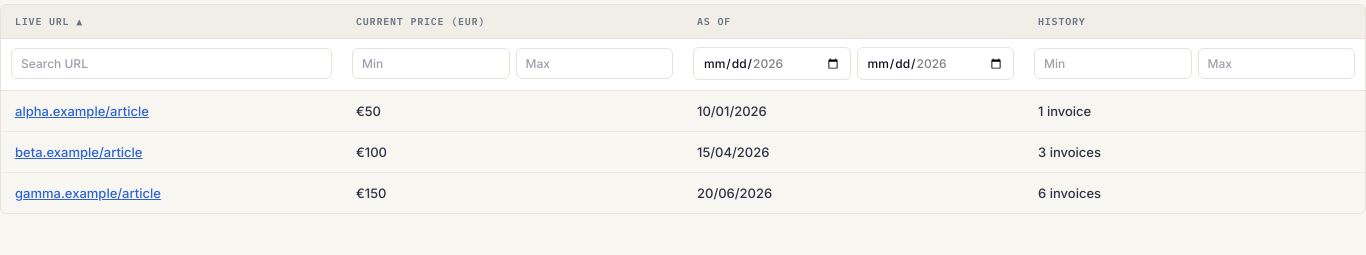
Scenario: WebsiteTable filters › combines filters and preserves a clear filtered-empty state
Type "alpha" into the search field named "Filter Live URL".
click(172, 64); type("alpha")  # box [11,48,332,79]
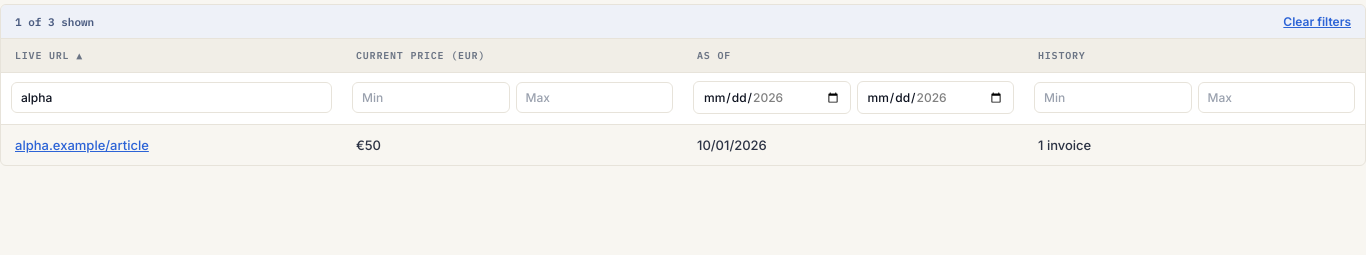
Type "100" into the number field named "Minimum current price".
click(431, 98); type("100")  # box [352,82,510,113]
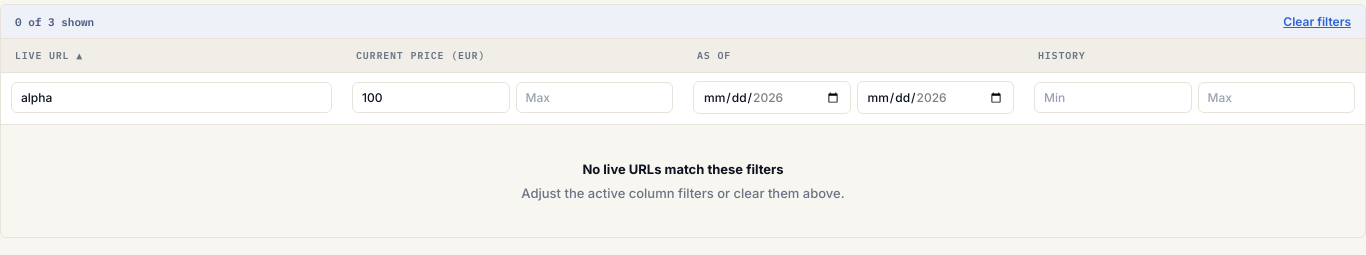
expect the text "No live URLs match these filters" is shown: met, box [582,161,784,177]
expect the text "0 of 3 shown" is shown: met, box [15,14,94,28]
Click the button "Clear filters".
click(1317, 22)  # box [1283,14,1351,29]
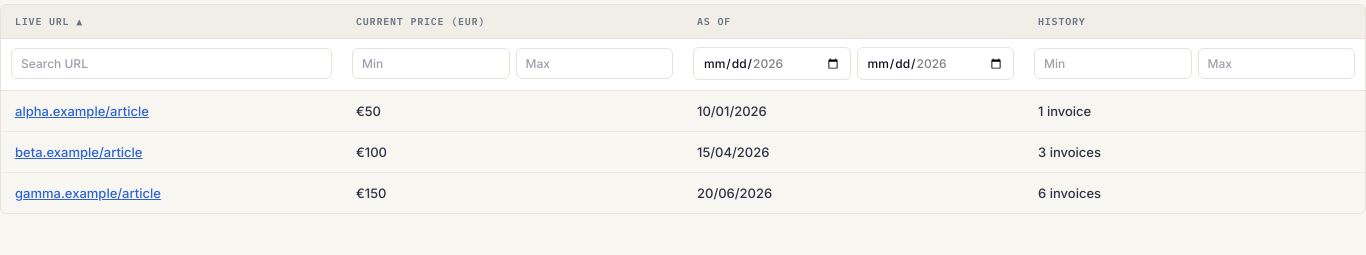
expect the number of links is 3: met, box [15,103,149,119]; [15,144,142,160]; [15,185,161,201]
